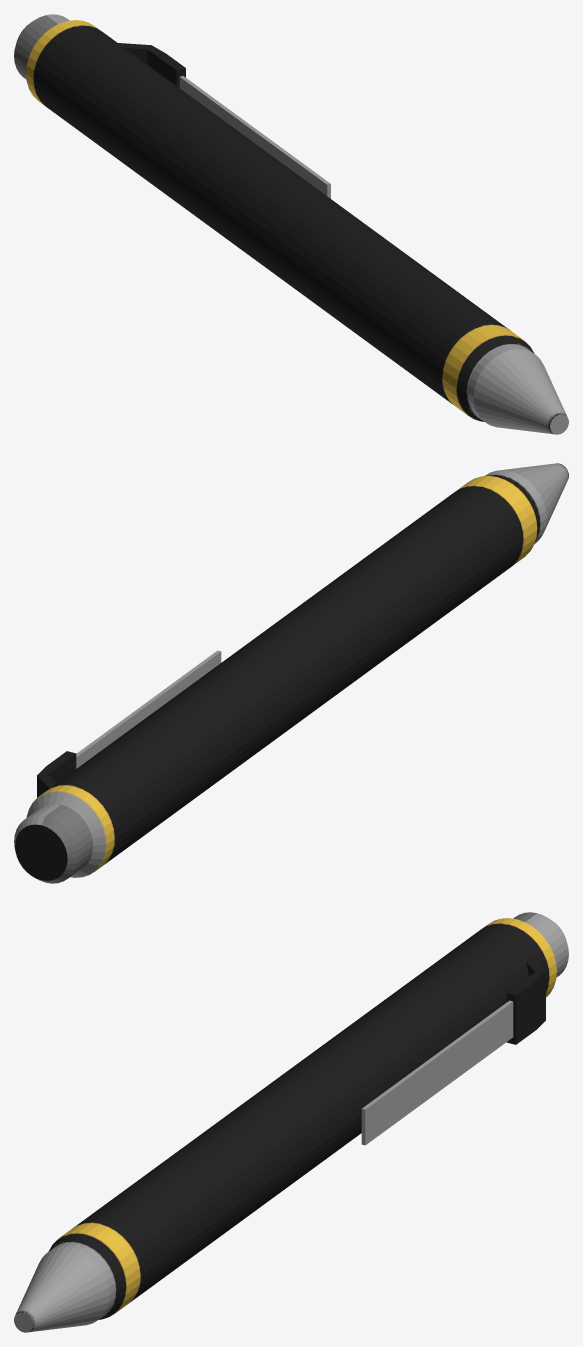
Rendered from pulpen.fbx.
3 views of the same model, one above another, from view 1: azimuth 30°, elevation 25°; view 2: azimuth 150°, elevation 25°; view 3: azimuth 330°, elevation 25° (orthographic).
Parts seen in each view (by area): view 1: Cylinder, Cube.001, Cube; view 2: Cylinder, Cube.001, Cube; view 3: Cylinder, Cube.001, Cube.
Part boxes in pixels (left/top/right/bottom): Cylinder: left=14, top=14, right=568, bottom=434; Cube.001: left=179, top=76, right=330, bottom=198; Cube: left=118, top=43, right=185, bottom=87; Cylinder: left=14, top=463, right=568, bottom=883; Cube.001: left=76, top=650, right=221, bottom=768; Cube: left=37, top=751, right=76, bottom=797; Cylinder: left=14, top=912, right=568, bottom=1332; Cube.001: left=361, top=1000, right=513, bottom=1145; Cube: left=506, top=957, right=545, bottom=1044.
Bounding box in the file's own units: 72.77 × 59.05 × 651.
Materials: 3 (3 with a texture image).
